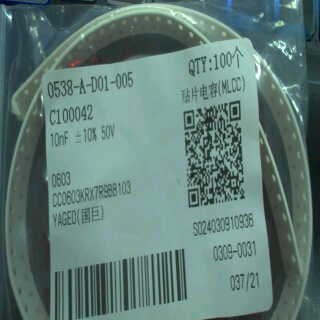10nF: (45, 127, 72, 151)
